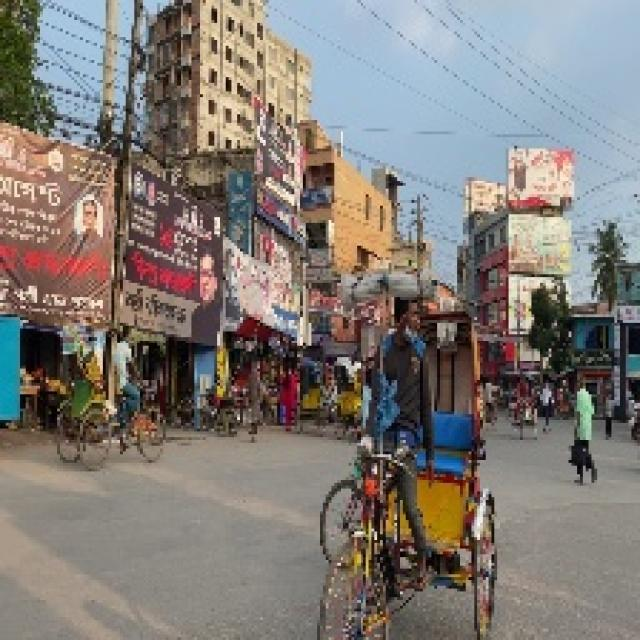rickshaw: (311, 309, 485, 622), (55, 315, 166, 462), (294, 354, 331, 442), (328, 354, 363, 424), (511, 373, 538, 437)
